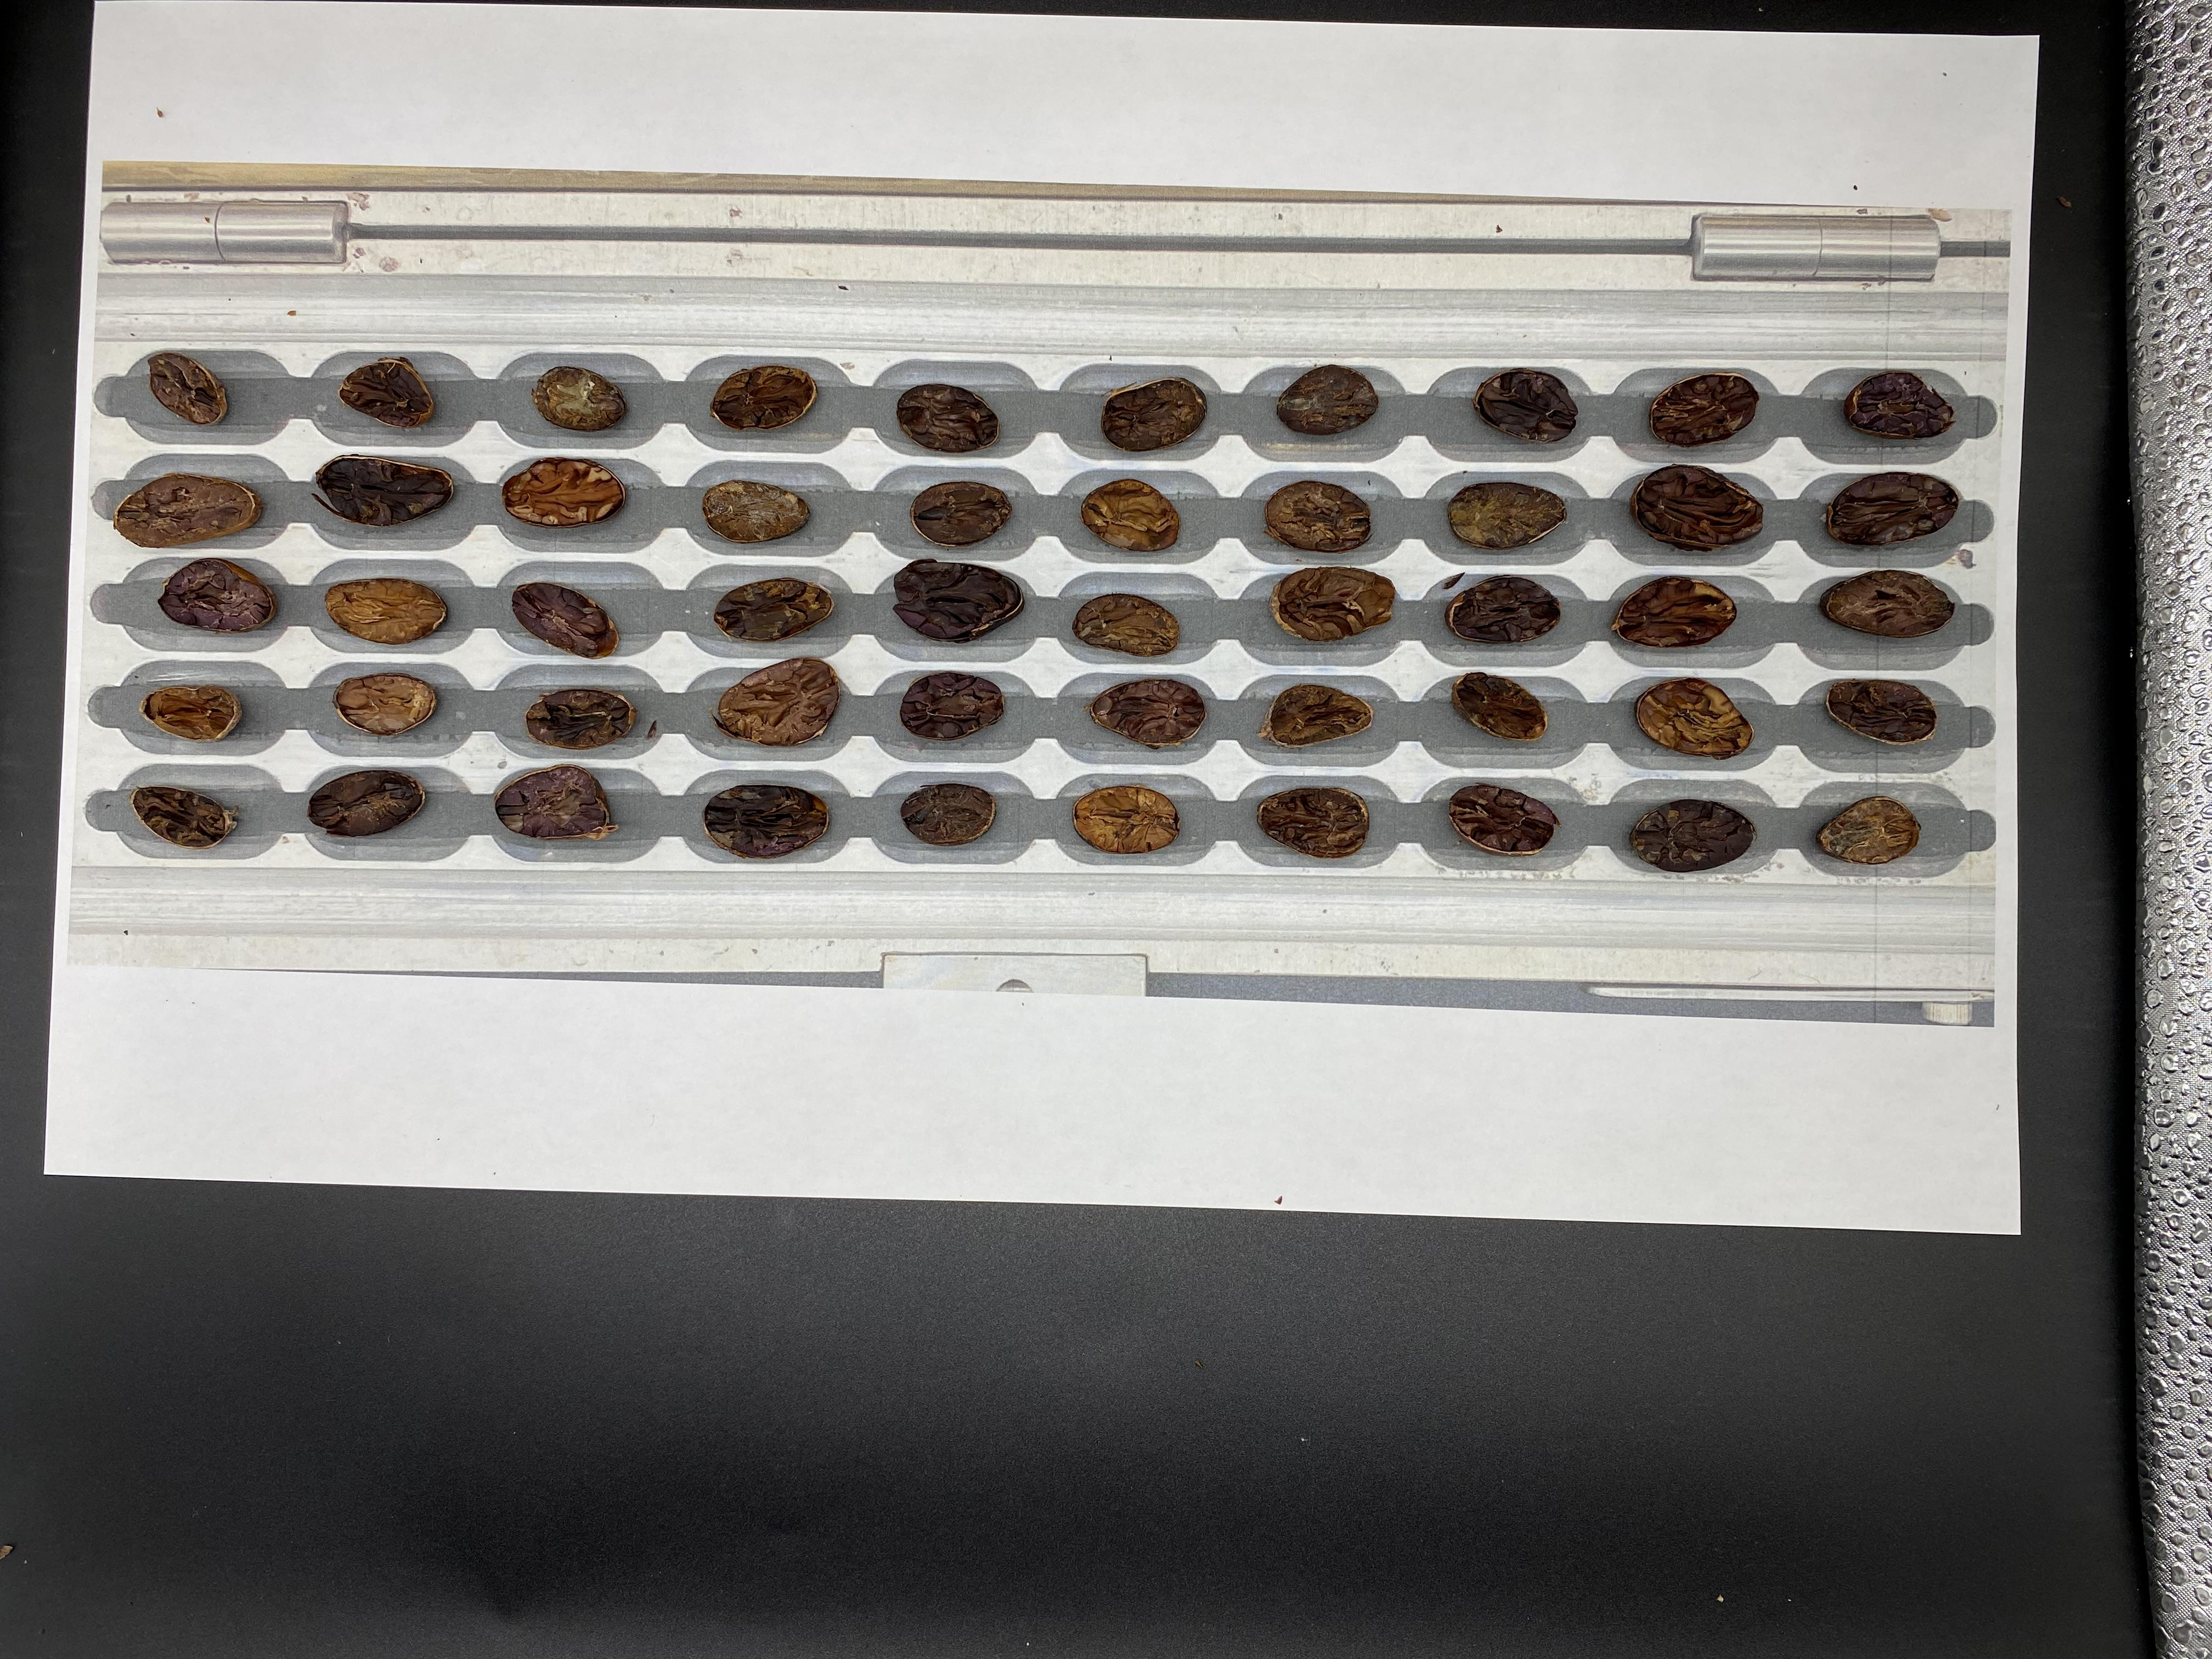Brown - G1: (1914, 1049, 1991, 1101), (1900, 1105, 1977, 1154), (1345, 1046, 1411, 1094), (1158, 1161, 1217, 1202)
Brown - G2: (1446, 1150, 1521, 1201), (1912, 1157, 1986, 1208), (1730, 1101, 1801, 1150), (1635, 1155, 1710, 1199), (1726, 1159, 1794, 1201), (1923, 1004, 1987, 1047), (1820, 1154, 1881, 1199), (1726, 1213, 1789, 1256), (1629, 1060, 1693, 1101), (1446, 1000, 1508, 1040)
Brown - G3: (1137, 1054, 1230, 1101), (2003, 1103, 2085, 1143), (1641, 1004, 1709, 1051), (1153, 990, 1214, 1042), (1726, 1054, 1791, 1103), (1629, 1209, 1693, 1256), (1254, 1154, 1320, 1197), (1252, 1105, 1317, 1147), (1629, 1114, 1693, 1154), (1548, 1056, 1608, 1098)
Insect-damaged: (1822, 1058, 1890, 1100)
Mouldy: (1353, 997, 1414, 1042), (1440, 1054, 1505, 1096), (1733, 1000, 1794, 1042), (2008, 1218, 2067, 1260), (1543, 1211, 1599, 1249)
Partly Purple - G1: (1536, 1100, 1615, 1150), (1817, 1209, 1883, 1256)
Partly Purple - G2: (1245, 1042, 1327, 1091), (1440, 1211, 1519, 1260), (2008, 1054, 2090, 1098), (1822, 1107, 1886, 1150), (1540, 1155, 1604, 1197), (1350, 1164, 1416, 1201)
Partly Purple - G3: (1343, 1107, 1411, 1155)
Total Purple - G2: (2024, 1002, 2087, 1042)
Total Purple - G3: (1336, 1202, 1409, 1249), (1163, 1100, 1233, 1145)
Very Dark Brown - G1: (1151, 1209, 1212, 1253)
Very Dark Brown - G2: (1536, 1007, 1604, 1053), (2012, 1157, 2080, 1201), (1834, 1002, 1895, 1047), (1258, 993, 1315, 1039)
Very Dark Brown - G3: (1912, 1220, 1987, 1269), (1240, 1204, 1308, 1249), (1447, 1108, 1517, 1148)
